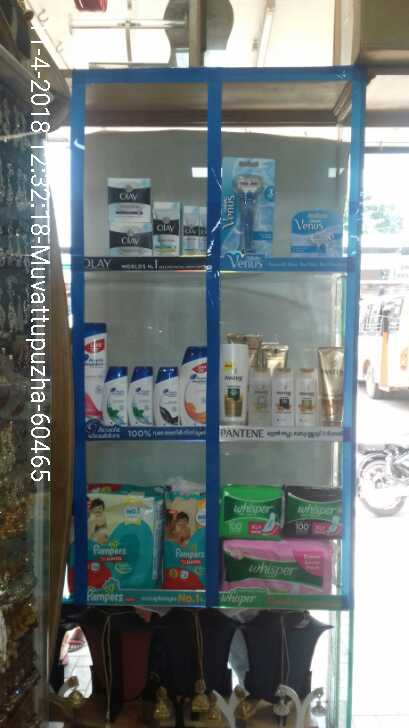venus: (221, 157, 275, 253), (291, 208, 344, 255)
